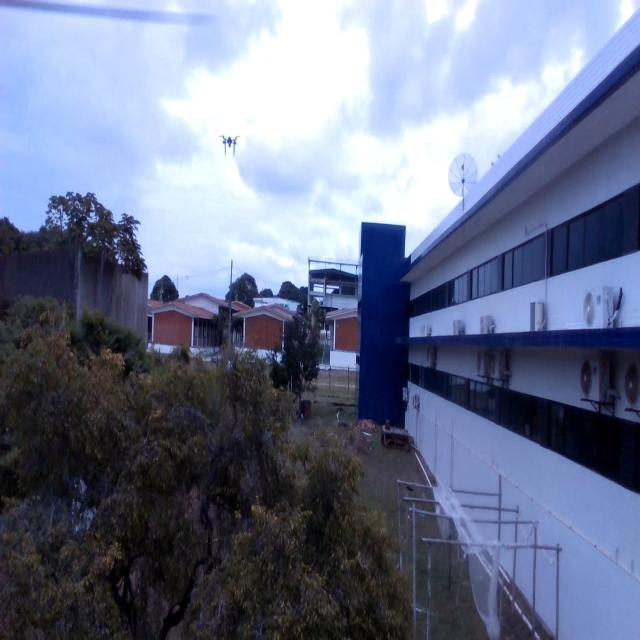-uav-: (221, 129, 240, 158)
